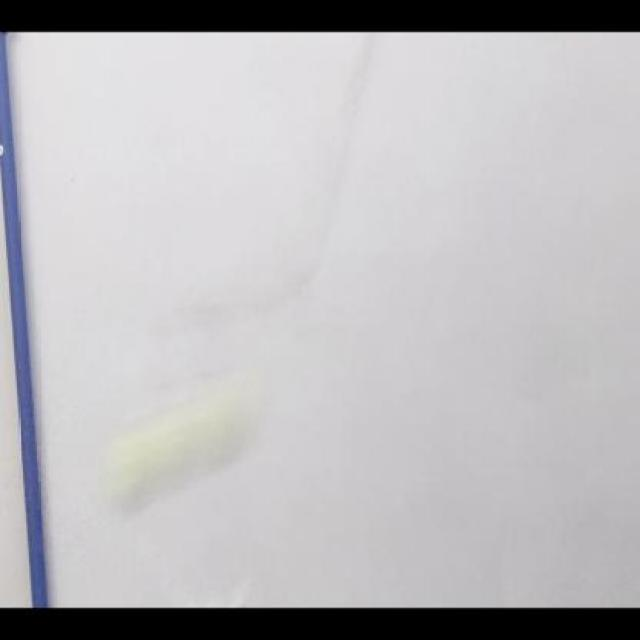baseball: (97, 391, 261, 512)
